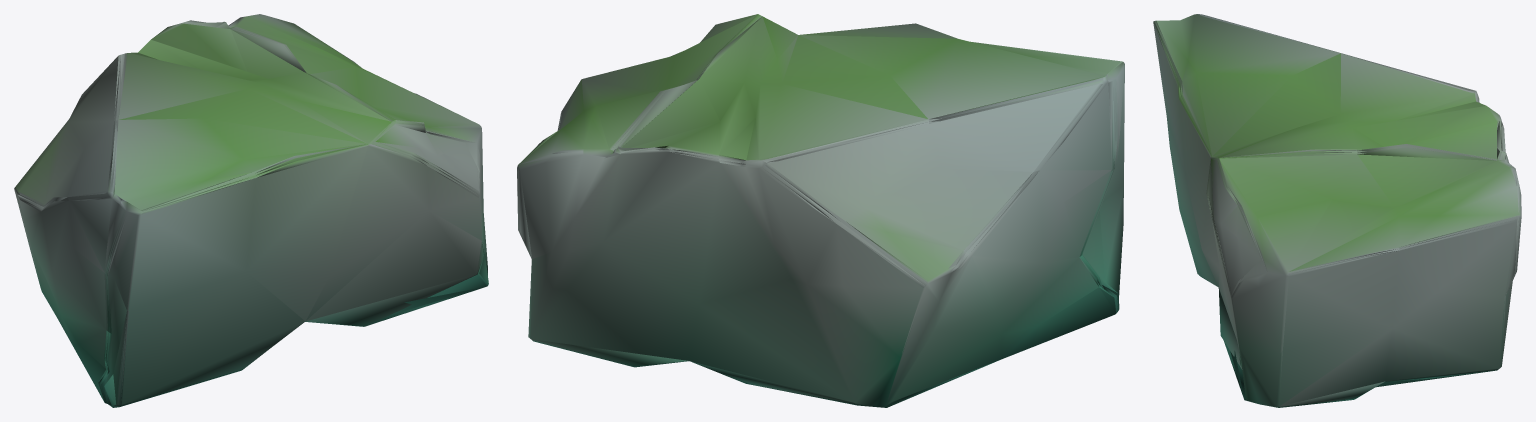
Rendered from grotto_rubble_b_lod1.glb.
3 views of the same model, side by side, from view 1: azimuth 30°, elevation 25°; view 2: azimuth 150°, elevation 25°; view 3: azimuth 270°, elevation 25° (orthographic). The views are drawn at different scales.
Visible parts, largest first — view 1: grotto_rubble_b.001; view 2: grotto_rubble_b.001; view 3: grotto_rubble_b.001.
Part boxes in pixels (x1,y1,x2,y2): grotto_rubble_b.001: (14,14,488,407); grotto_rubble_b.001: (517,14,1124,407); grotto_rubble_b.001: (1153,14,1521,407).
Size of the model in its own units: 2.57 by 1.23 by 2.
